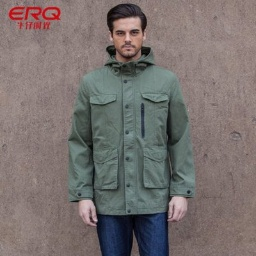face: (106, 2, 149, 59)
